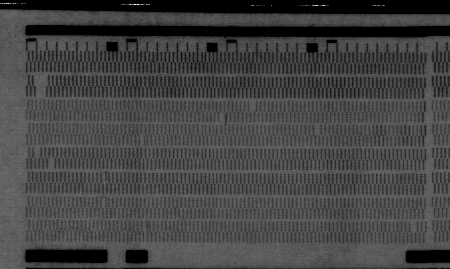Broken hole: (32, 73, 51, 98), (247, 99, 258, 113), (45, 157, 56, 170), (311, 124, 322, 136), (32, 146, 42, 158), (217, 112, 229, 122), (408, 221, 418, 233)
Oblique printing: (139, 219, 152, 231), (99, 197, 111, 209), (99, 171, 110, 184), (138, 134, 149, 147)
